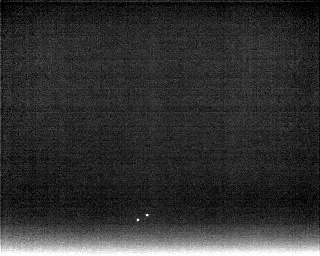BIRD: (134, 216, 141, 224)
